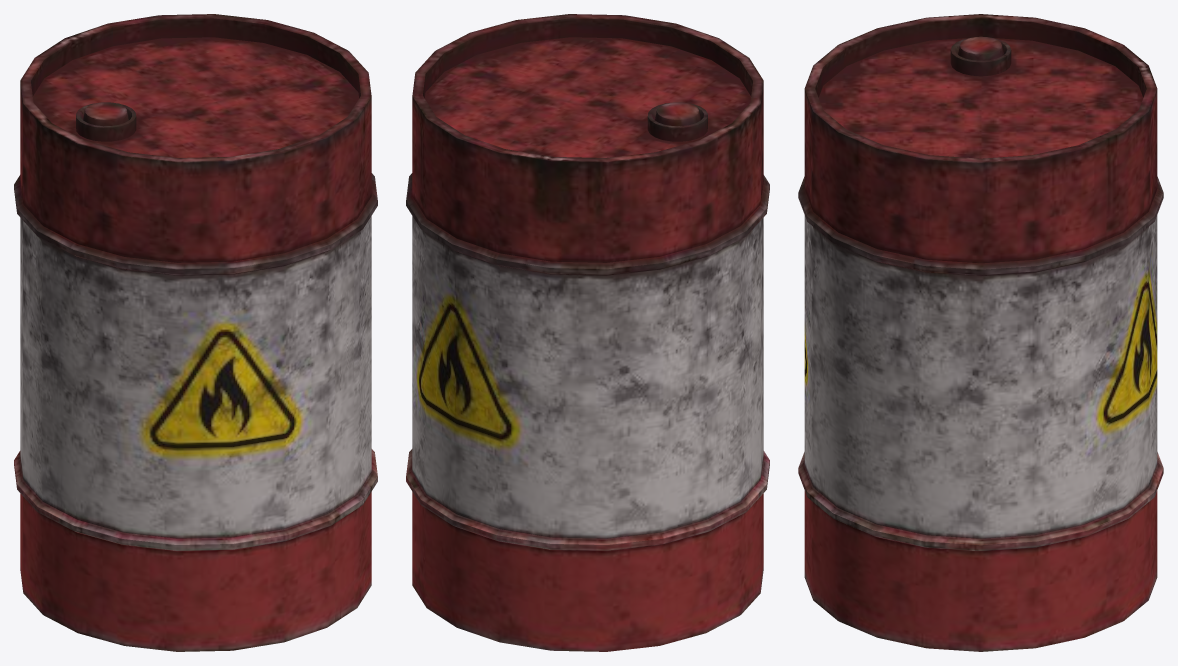
Rendered from drum_explosive.glb.
3 renders of one model, left to right at view 1: azimuth 30°, elevation 25°; view 2: azimuth 150°, elevation 25°; view 3: azimuth 270°, elevation 25°, orthographic.
Visible parts, largest first — view 1: defaultMaterial; view 2: defaultMaterial; view 3: defaultMaterial.
Boxes of the visible parts, x1,y1,x2,y2 form: defaultMaterial: [14, 14, 377, 651]; defaultMaterial: [406, 14, 769, 651]; defaultMaterial: [798, 14, 1163, 651].
Bounding box in the file's own units: 0.6434 × 0.95 × 0.6434.
1 material, 1 textured.
